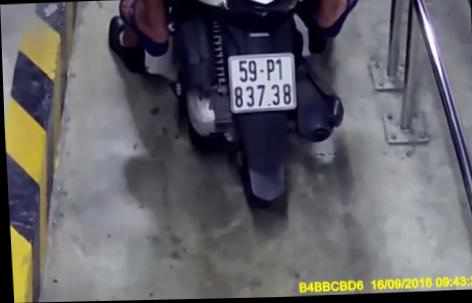LP: (226, 53, 297, 113)
